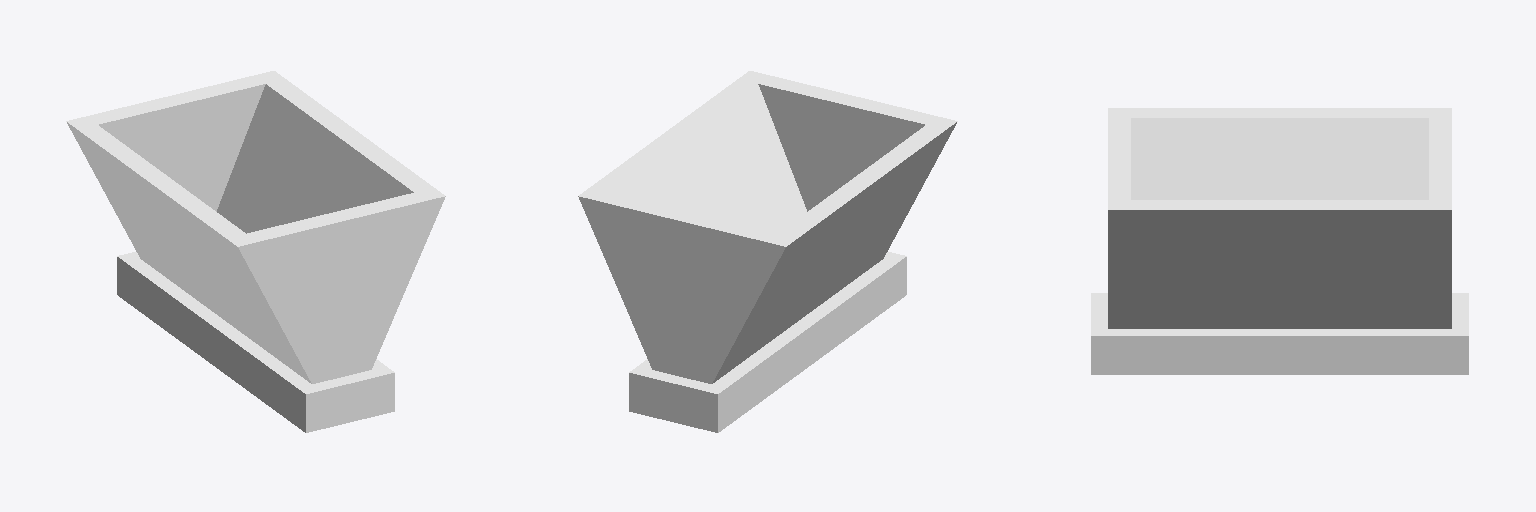
Rendered from cart.obj.
3 views of the same model, side by side, from view 1: azimuth 30°, elevation 25°; view 2: azimuth 150°, elevation 25°; view 3: azimuth 270°, elevation 25° (orthographic).
Visible parts, largest first — view 1: Cube_Cube.000; view 2: Cube_Cube.000; view 3: Cube_Cube.000.
Boxes of the visible parts, x1=… form: Cube_Cube.000: x1=66, y1=71, x2=445, y2=432; Cube_Cube.000: x1=578, y1=71, x2=957, y2=432; Cube_Cube.000: x1=1091, y1=108, x2=1468, y2=374.
Size of the model in its own units: 0.7 by 0.625 by 1.1.